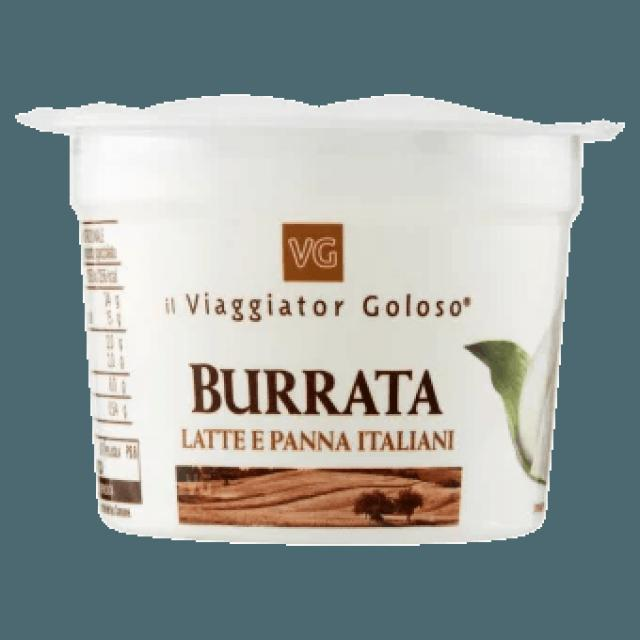cheese: (24, 94, 623, 548)
